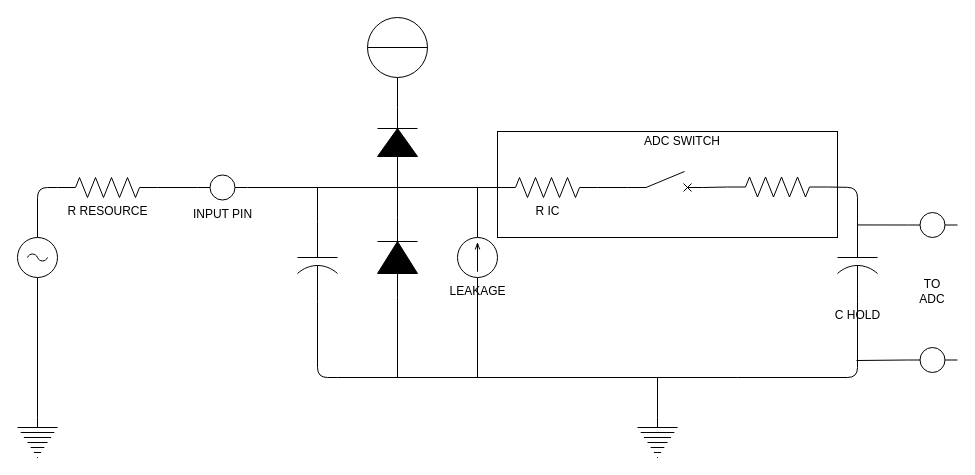
This 975x475 diagram has some shape labels left out. The box of each missing label's shape, as (x1, y1, x2, y2) in pixels:
C PIN: (296, 220, 338, 302)
R SS: (726, 176, 828, 197)
VDD: (366, 16, 428, 78)
